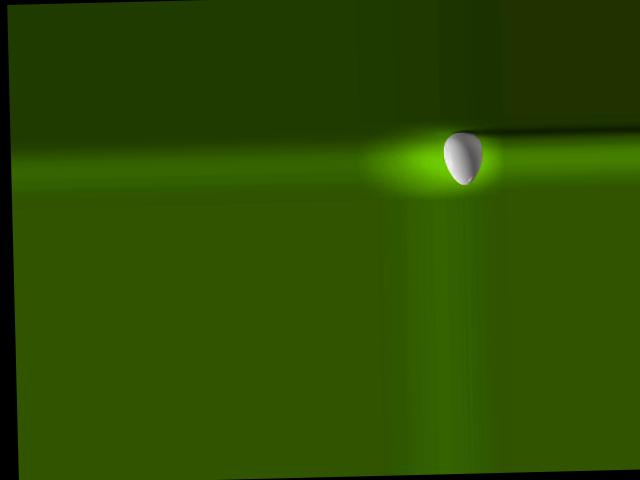egg: (443, 131, 483, 186)
